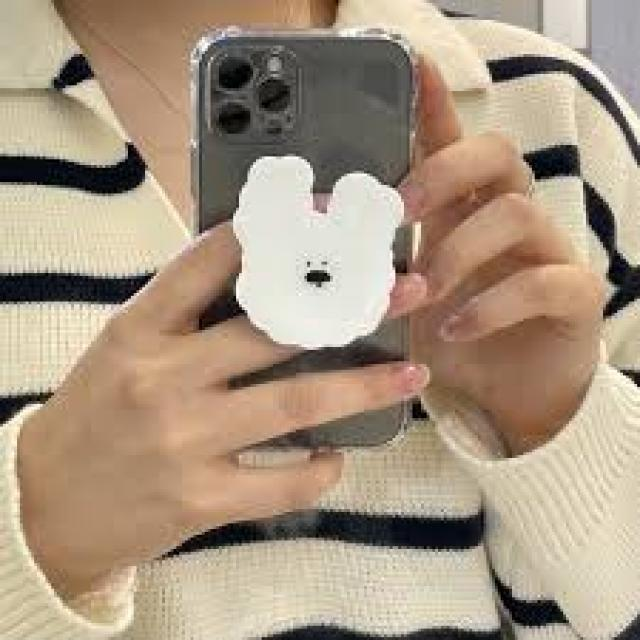Phone: (183, 21, 420, 450)
